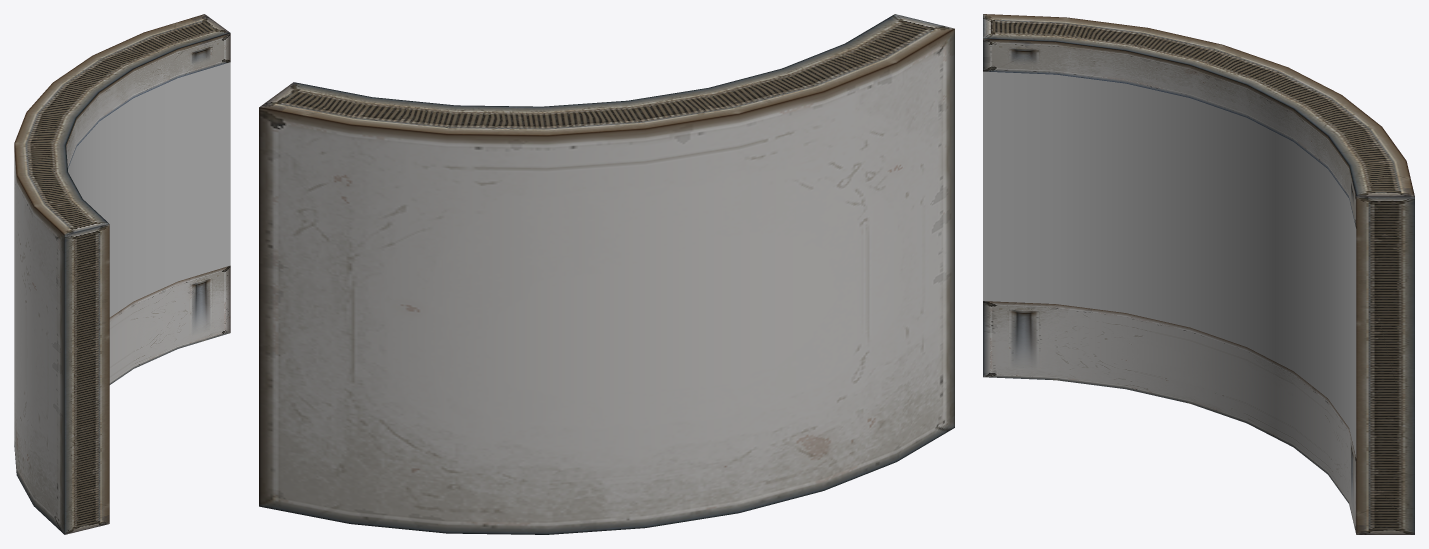
The model's file is scifi_wall_curve2_7.FBX.
3 views of the same model, side by side, from view 1: azimuth 30°, elevation 25°; view 2: azimuth 150°, elevation 25°; view 3: azimuth 270°, elevation 25° (orthographic). The views are drawn at different scales.
Parts seen in each view (by area): view 1: Plane106; view 2: Plane106; view 3: Plane106.
Part boxes in pixels (x1,y1,x2,y2): Plane106: [14, 14, 230, 534]; Plane106: [259, 14, 954, 534]; Plane106: [983, 14, 1414, 534].
Size of the model in its own units: 294 by 254 by 294.
